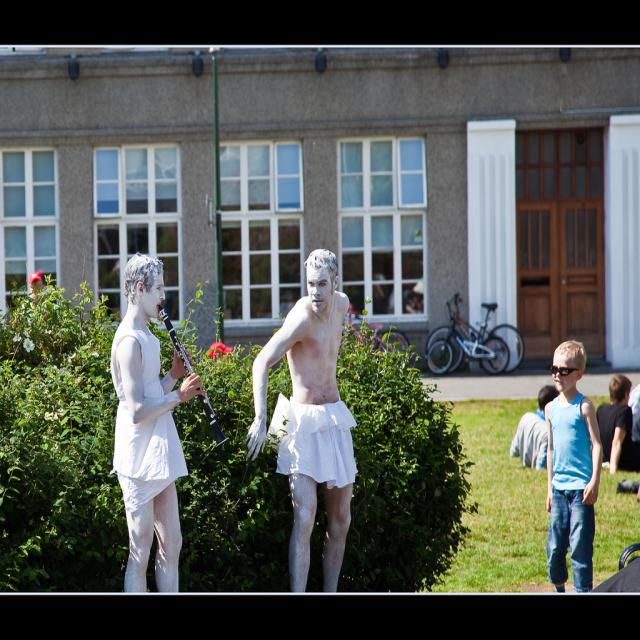clarinet: (156, 304, 230, 452)
